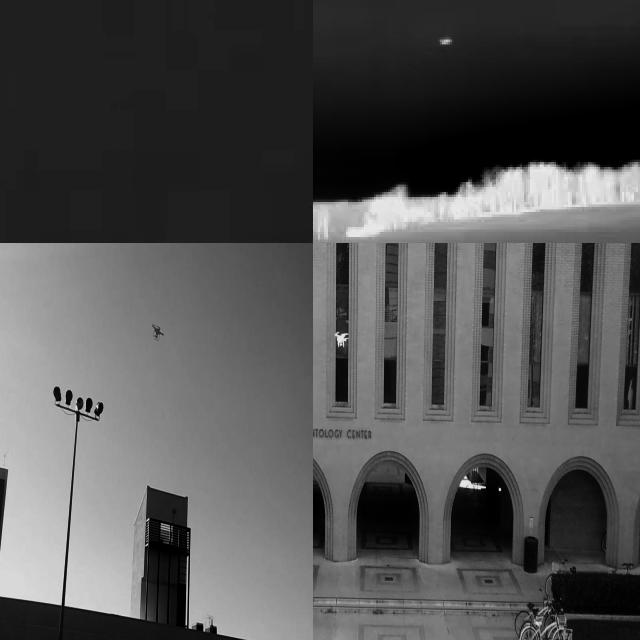0: (303, 196, 313, 223)
1: (428, 28, 464, 61)
drone: (150, 318, 167, 344), (332, 332, 348, 351)
